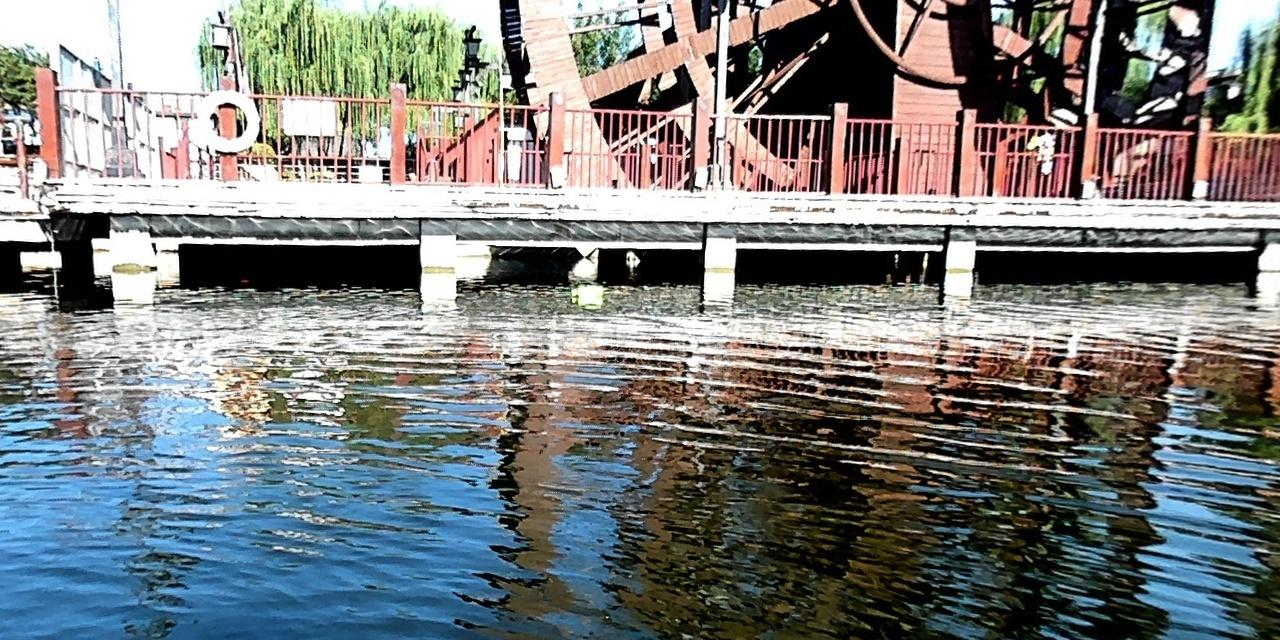bottle: (568, 282, 602, 300)
